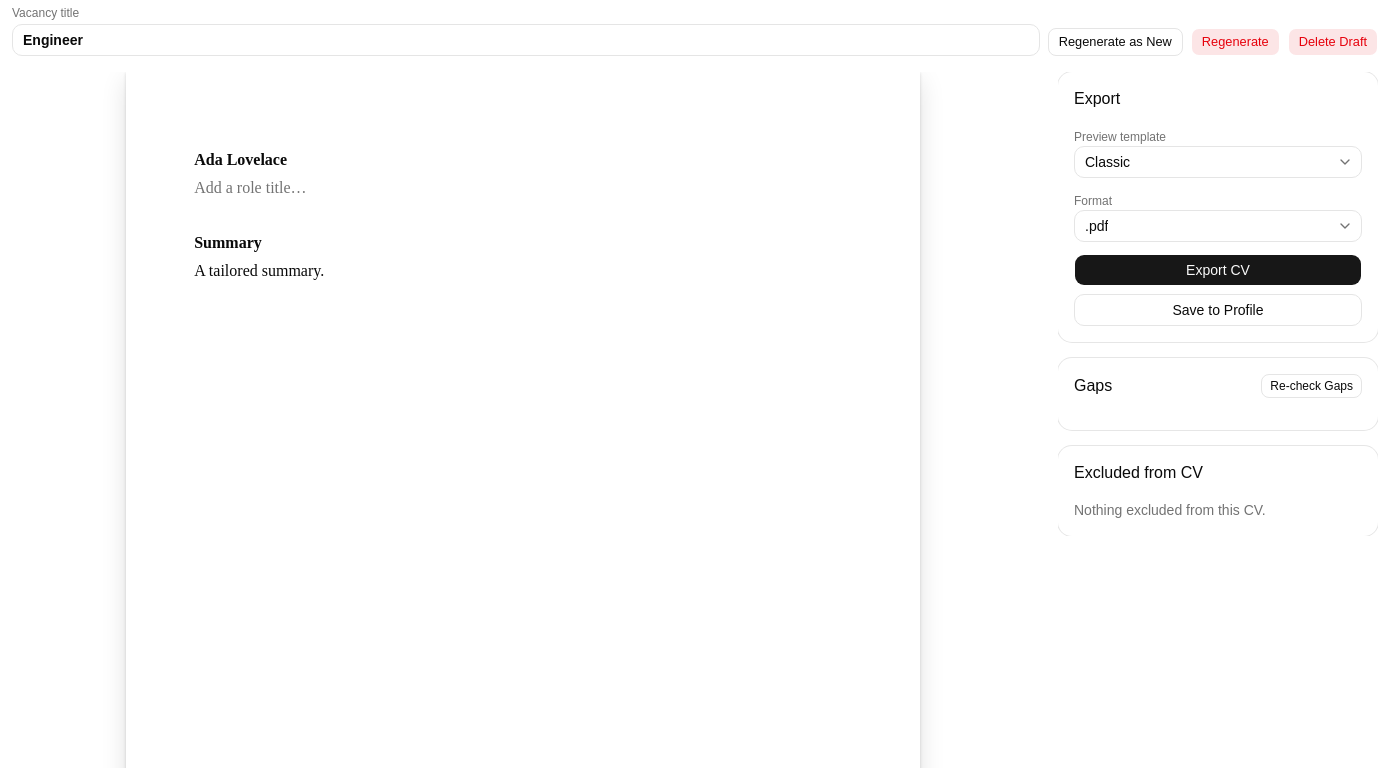
Test: DraftScreen › clicking Regenerate as New re-tailors against the same JD without confirmation, saves it as a new draft, and navigates there
The width and height of the screenshot is (1390, 768).
Expected: the text box "A tailored summary." is shown, [194,262,324,279]
What coordinates should you click on to do the following:
click the button "Regenerate as New"
I would click on:
 (1115, 42)
Its box is [1048,28,1183,56].
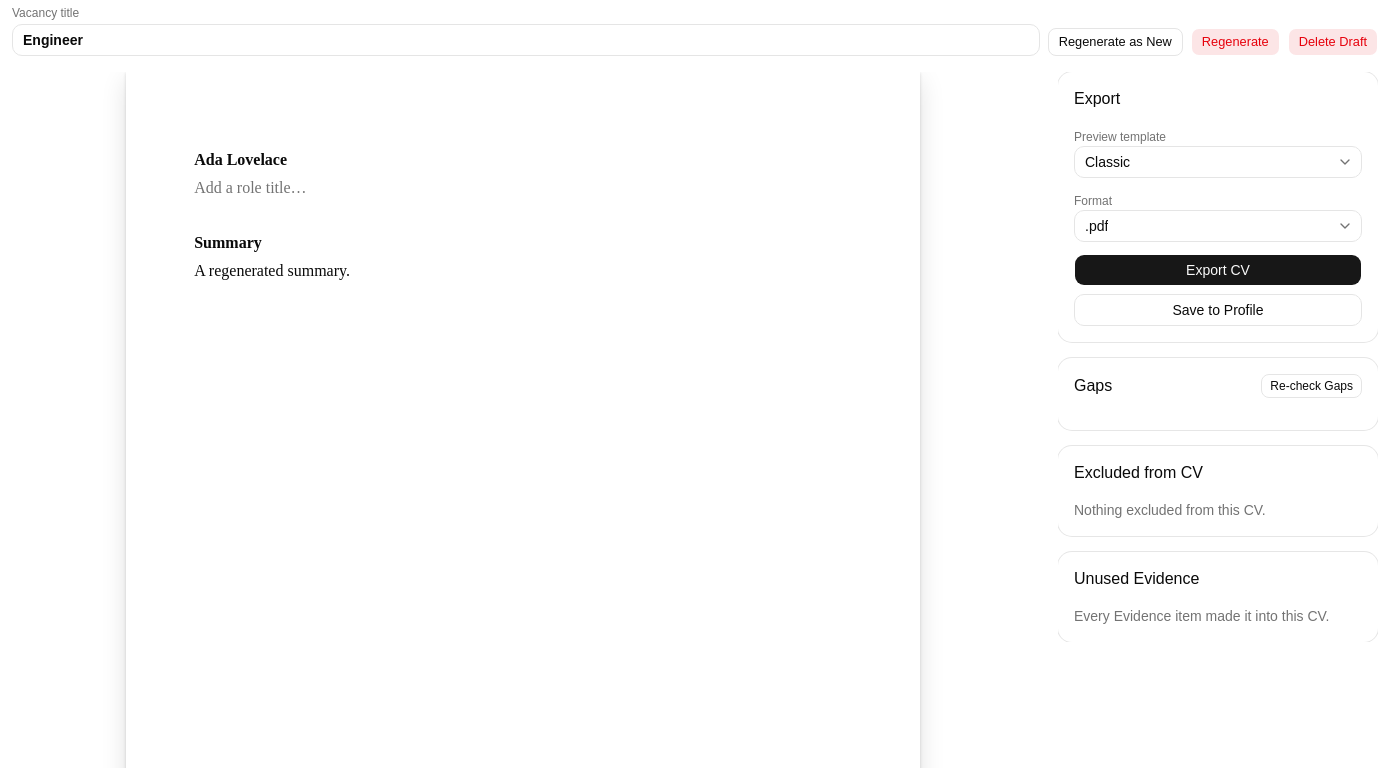
Expected: the text box "A regenerated summary." is shown, [194,262,350,279]
